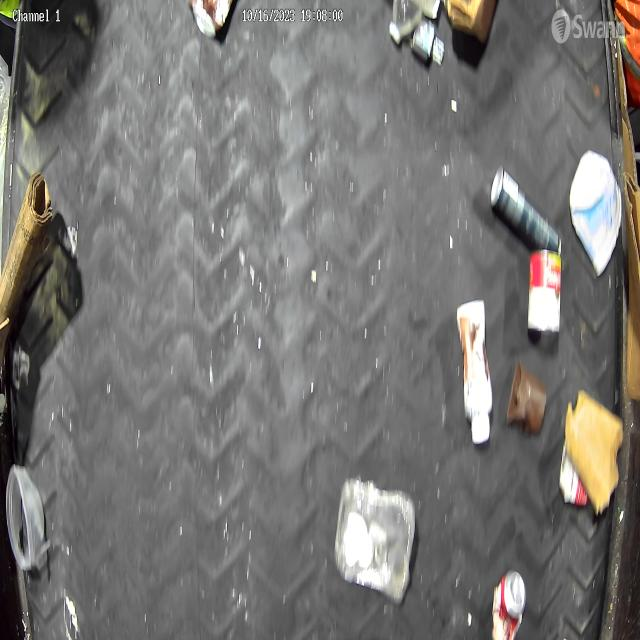can: (490, 166, 563, 258), (526, 248, 562, 334), (489, 567, 528, 640), (187, 0, 236, 40), (411, 16, 438, 67)
plastic_bottle: (388, 0, 424, 44)
